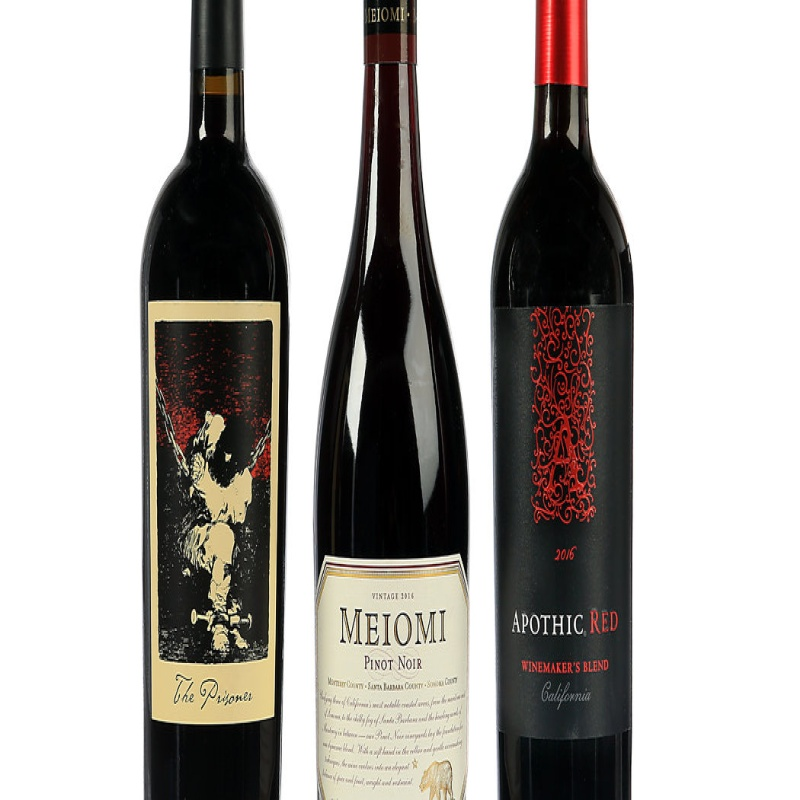wine: (316, 24, 478, 800), (503, 15, 652, 799), (137, 10, 280, 799)
